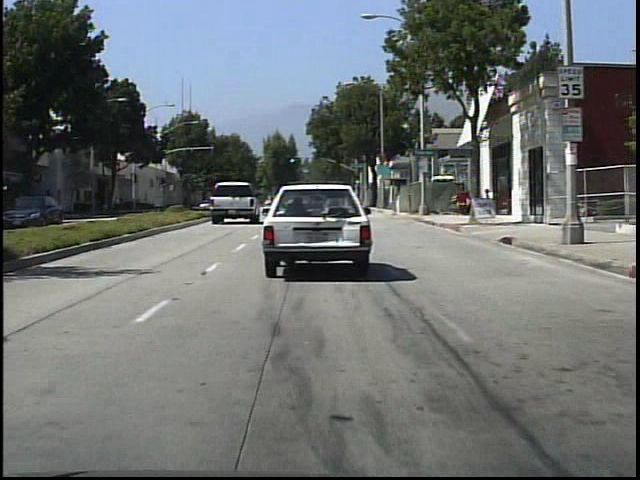person: (45, 196, 60, 224), (114, 194, 124, 214)
